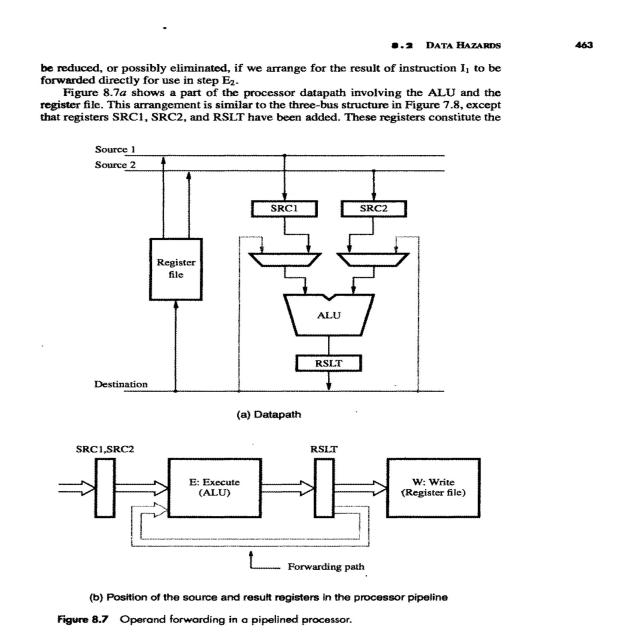diagram: (41, 135, 551, 640)
